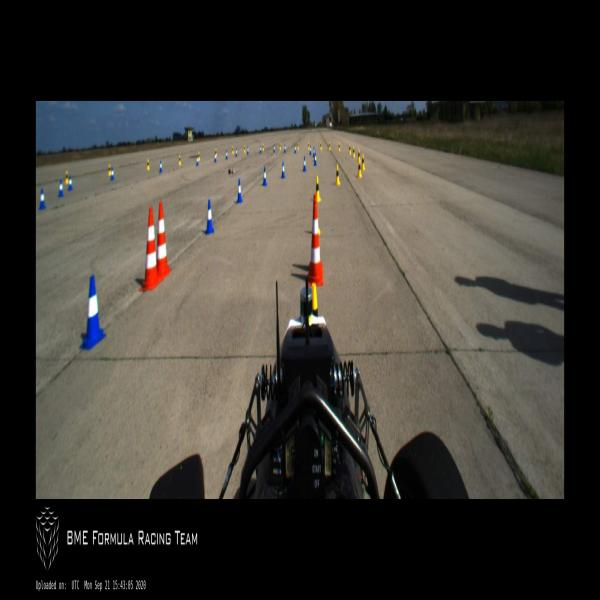blue_cone: (79, 276, 106, 349), (205, 199, 214, 234), (237, 178, 242, 202), (39, 189, 45, 208), (58, 180, 64, 196), (262, 168, 266, 186), (68, 176, 73, 190), (281, 162, 285, 178), (303, 156, 306, 171), (314, 151, 317, 166), (111, 168, 114, 180), (196, 156, 199, 166), (309, 146, 312, 154), (160, 161, 162, 172), (284, 144, 286, 153), (313, 147, 315, 156), (226, 151, 228, 159), (236, 148, 238, 156), (247, 146, 249, 154), (260, 145, 262, 153), (294, 145, 296, 153), (273, 145, 275, 152), (215, 153, 216, 161)
large_orange_cone: (139, 207, 159, 292), (308, 195, 323, 285), (157, 200, 171, 280)
yellow_cone: (335, 163, 340, 184), (316, 176, 320, 200), (357, 159, 362, 178), (361, 154, 365, 170), (65, 171, 68, 184), (108, 164, 111, 176), (352, 146, 355, 157), (348, 143, 351, 154), (328, 141, 331, 151), (358, 149, 360, 162), (147, 159, 149, 170), (338, 142, 340, 152), (179, 155, 181, 165), (198, 151, 200, 161), (308, 141, 310, 150), (320, 142, 322, 150), (232, 146, 234, 154), (262, 143, 264, 151), (279, 143, 281, 150), (297, 142, 299, 149)
